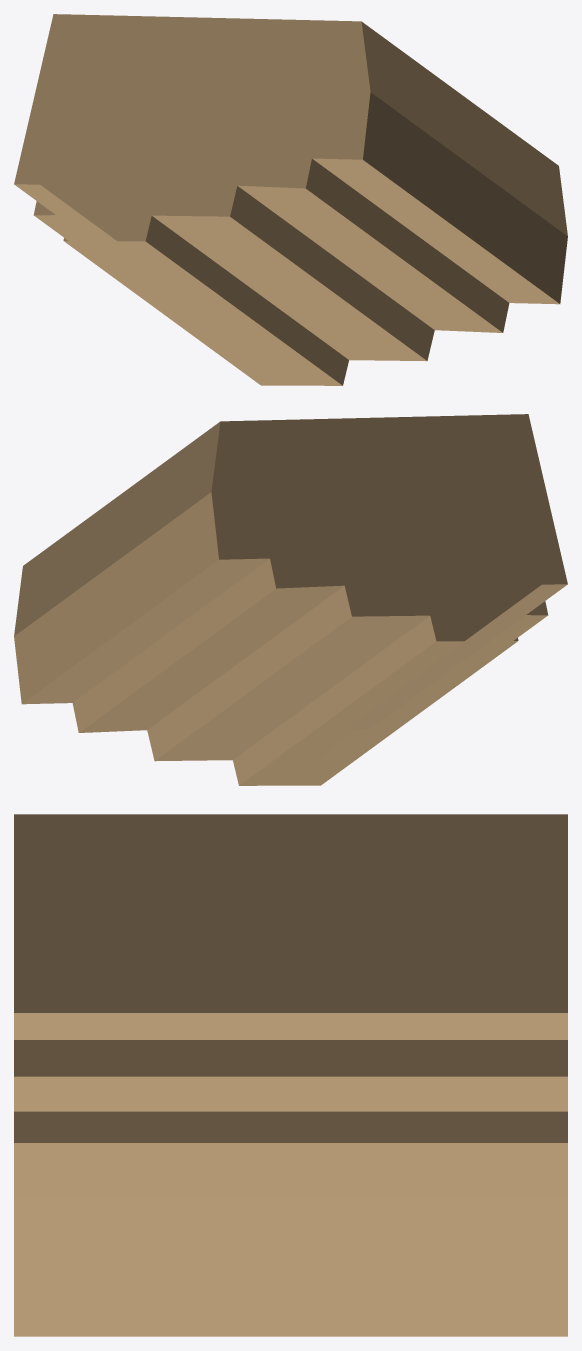
The picture shows the model from 3 angles, top to bottom: view 1: azimuth 30°, elevation 25°; view 2: azimuth 150°, elevation 25°; view 3: azimuth 270°, elevation 25°; orthographic projection. The views are drawn at different scales.
Parts seen in each view (by area): view 1: 0_3_0_1_1_0_2_2_2; view 2: 0_3_0_1_1_0_2_2_2; view 3: 0_3_0_1_1_0_2_2_2.
Part boxes in pixels (left/top/right/bottom): 0_3_0_1_1_0_2_2_2: left=14, top=14, right=567, bottom=385; 0_3_0_1_1_0_2_2_2: left=14, top=414, right=567, bottom=785; 0_3_0_1_1_0_2_2_2: left=14, top=814, right=567, bottom=1336.
Size of the model in its own units: 25.02 by 16.75 by 24.
